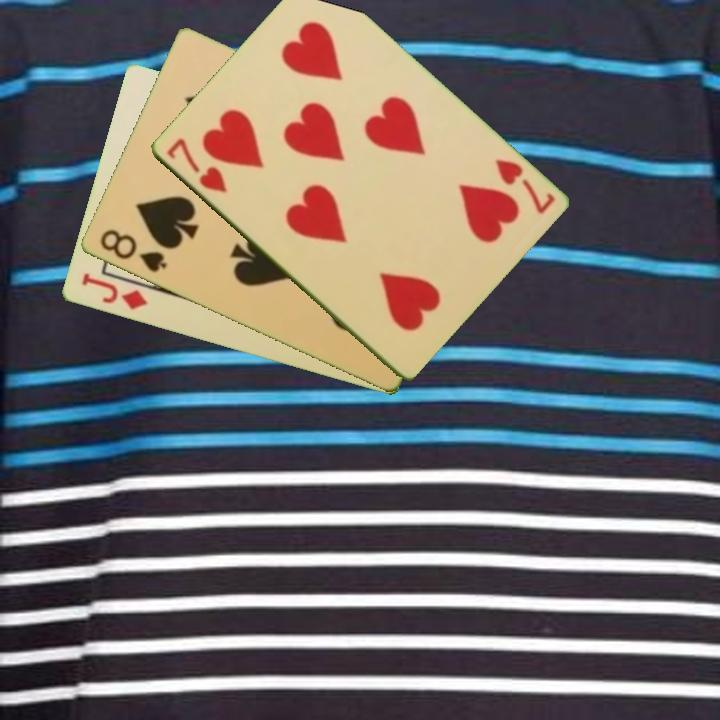7h: (162, 134, 230, 197), (490, 155, 558, 217)
8s: (95, 226, 169, 276)
Jd: (77, 269, 150, 313)
